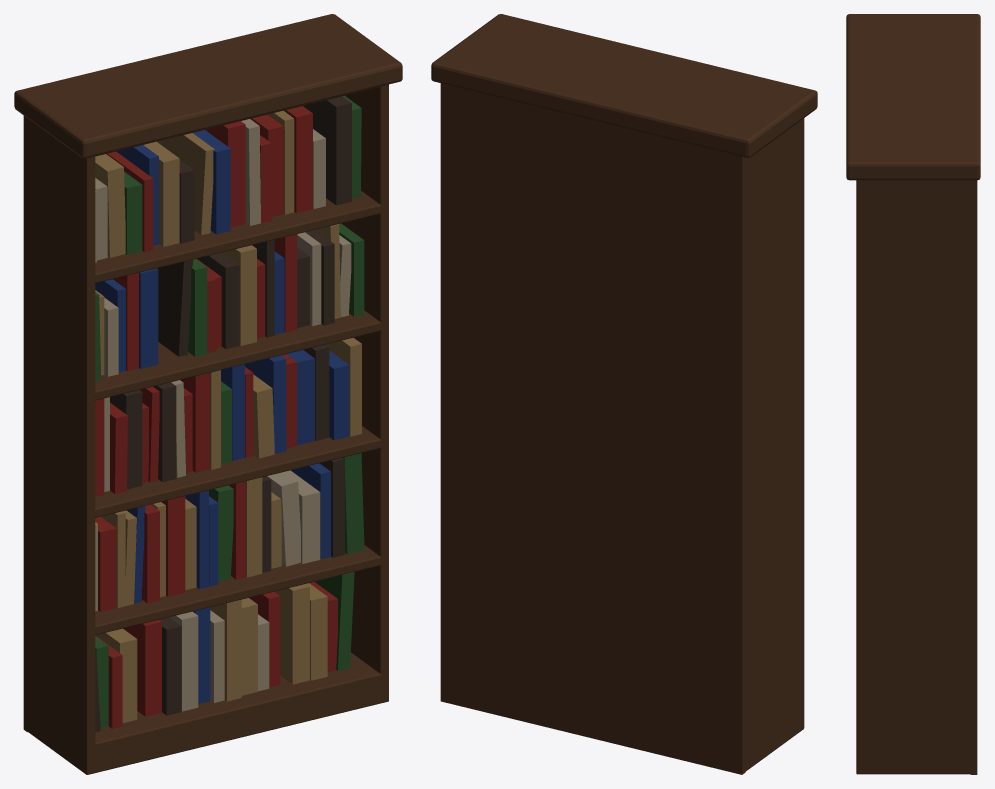
File: bookcase.glb
The picture shows the model from 3 angles, left to right: view 1: azimuth 30°, elevation 25°; view 2: azimuth 150°, elevation 25°; view 3: azimuth 270°, elevation 25°; orthographic projection. The views are drawn at different scales.
Visible parts, largest first — view 1: bookcase; view 2: bookcase; view 3: bookcase.
Boxes of the visible parts, x1,y1,x2,y2 form: bookcase: (14,14,402,774); bookcase: (431,14,817,774); bookcase: (846,14,980,774).
Bounding box in the file's own units: 1.06 × 2.02 × 0.4.
